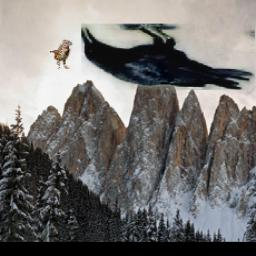Crow: (81, 24, 255, 90)
Sparrow: (50, 41, 72, 70)
